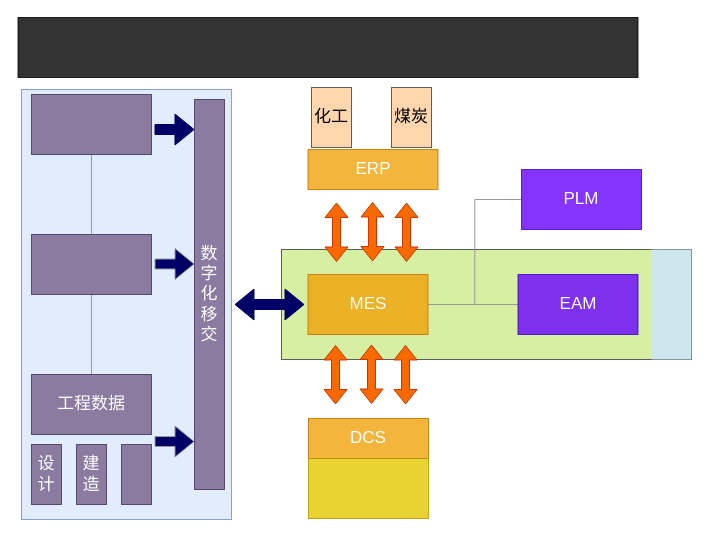
Some shapes in this 709 by 537 pixel diagram are drawn without their labels. Each missing label, with the centre of its shape:
"3D设计 一体化" goes at pixel 91 124.
"传感测量网络" goes at pixel 368 488.
"全生命周期数字化资产模型" goes at pixel 327 47.
"工程服务" goes at pixel 91 264.
"应 用 一 体 化" goes at pixel 671 304.
"运维" goes at pixel 136 474.
